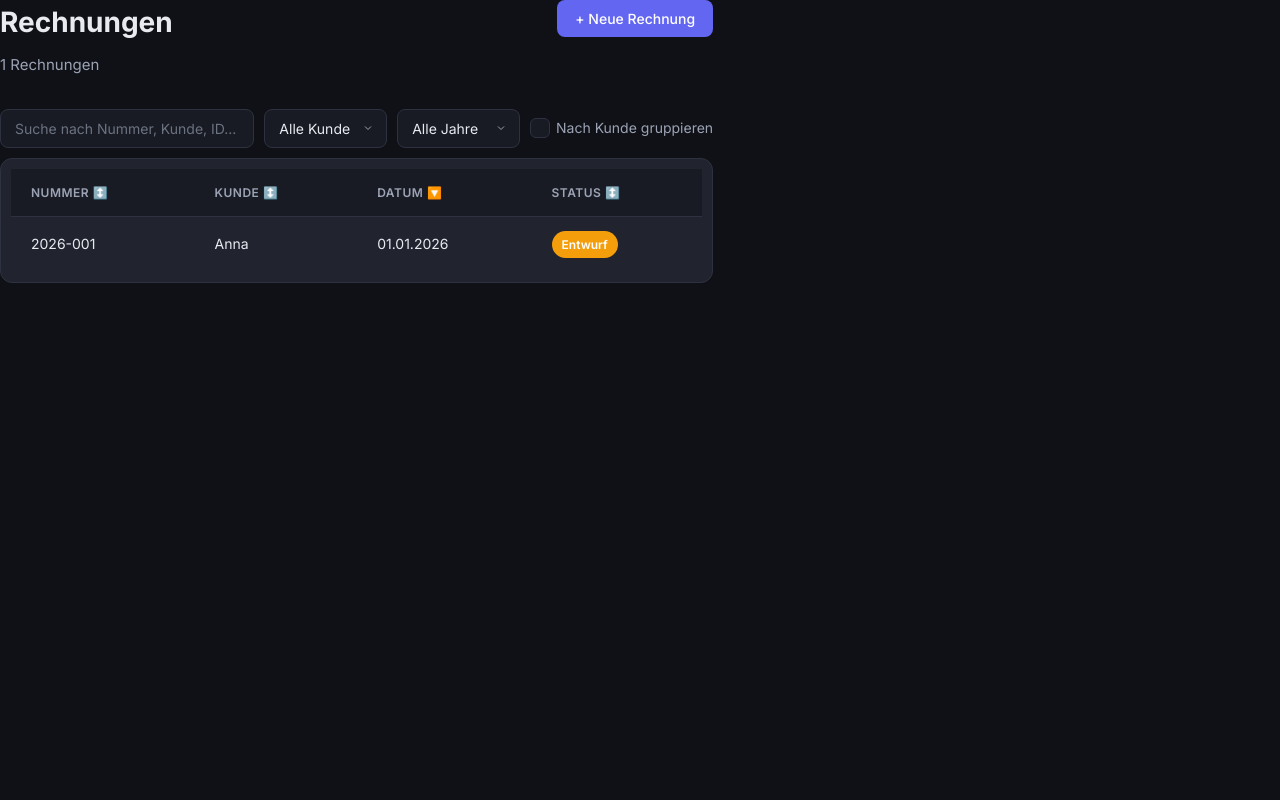
Test: Finale Rechnung ist gesperrt (#283) › lässt Entwürfe bearbeitbar, abschließbar und löschbar
Click the text "2026-001" at [63, 244], box [11,216,194,272]
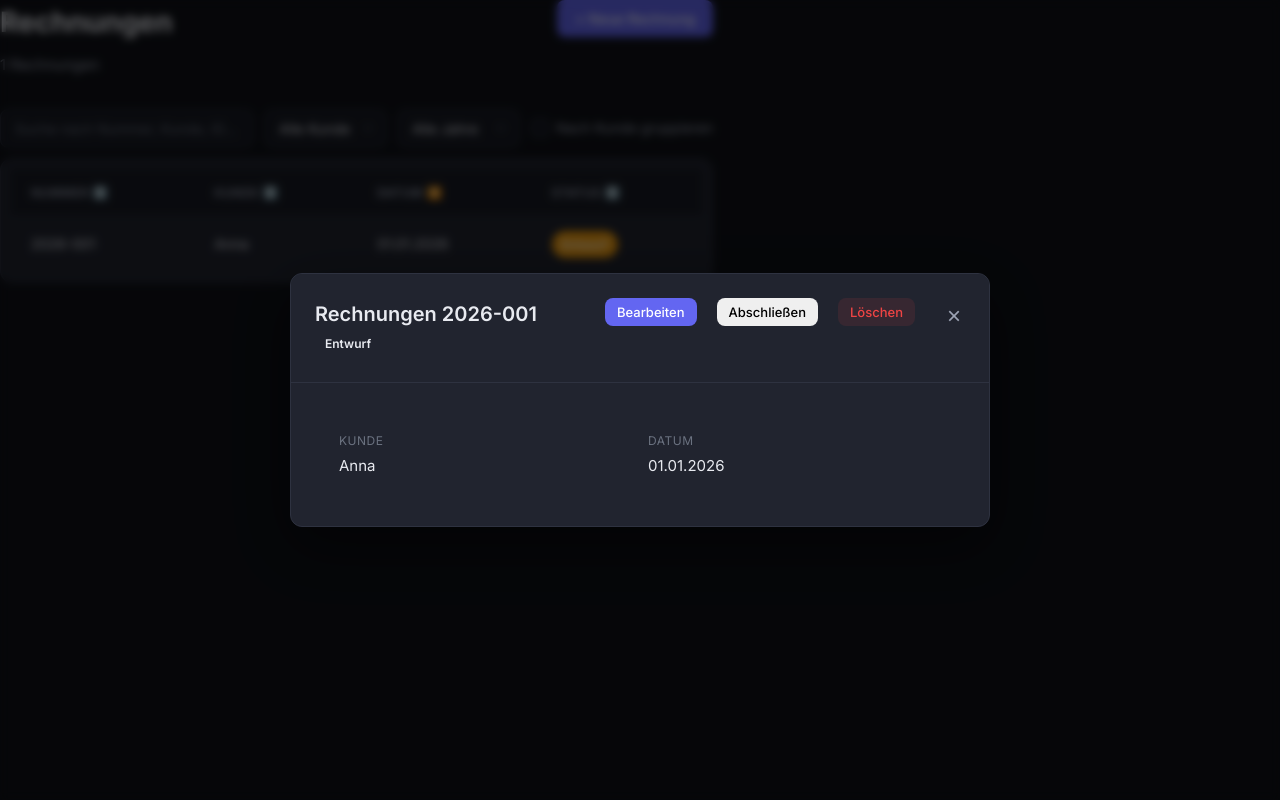
expect the text "Kunde" is shown: met, box [339,432,383,448]
expect the button "Löschen" is shown: met, box [838,298,915,326]
expect the button "Bearbeiten" is shown: met, box [605,298,697,326]
